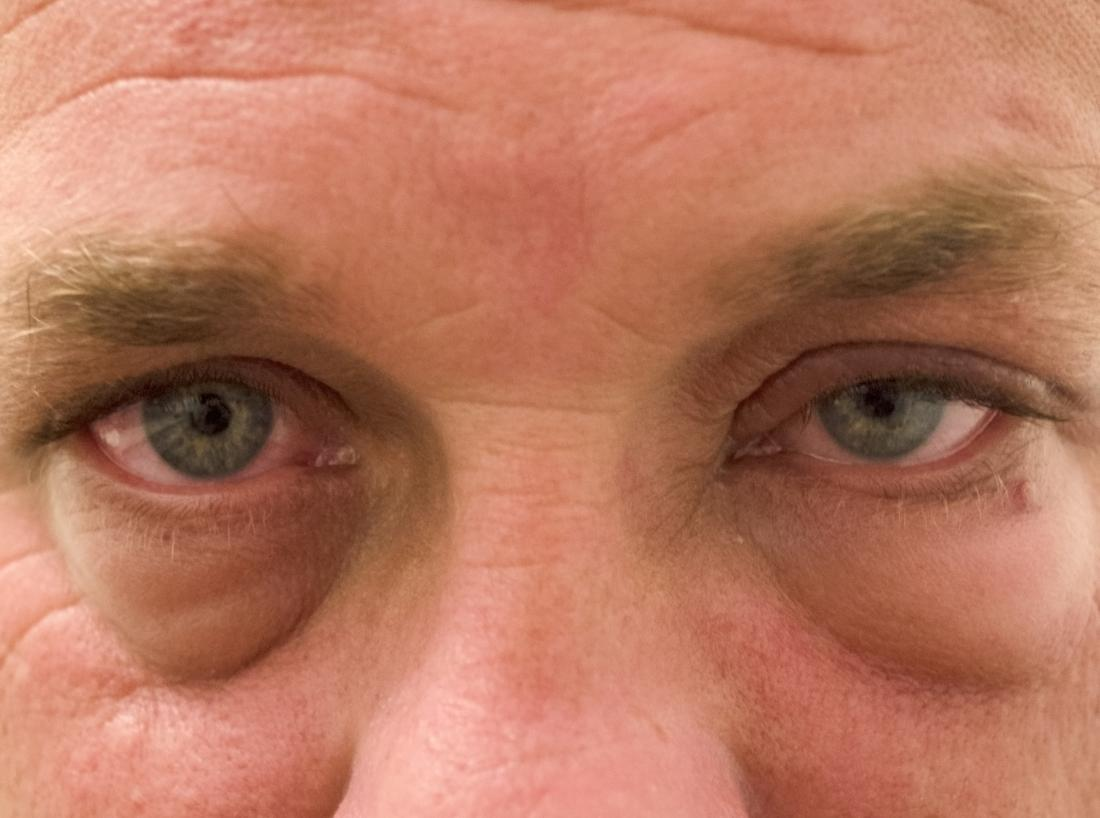PUFFY_EYES: (725, 407, 1100, 689), (24, 380, 363, 675)
